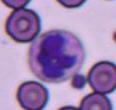N: (28, 29, 85, 82)
